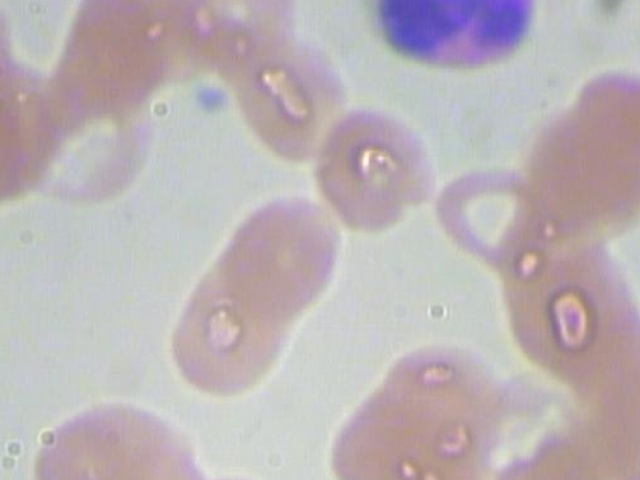Platelets: (187, 78, 236, 120)
RBC: (159, 247, 293, 405), (208, 188, 343, 324), (221, 25, 355, 162), (308, 100, 442, 236), (21, 394, 210, 480), (0, 0, 28, 104)
WBC: (345, 0, 549, 89)
